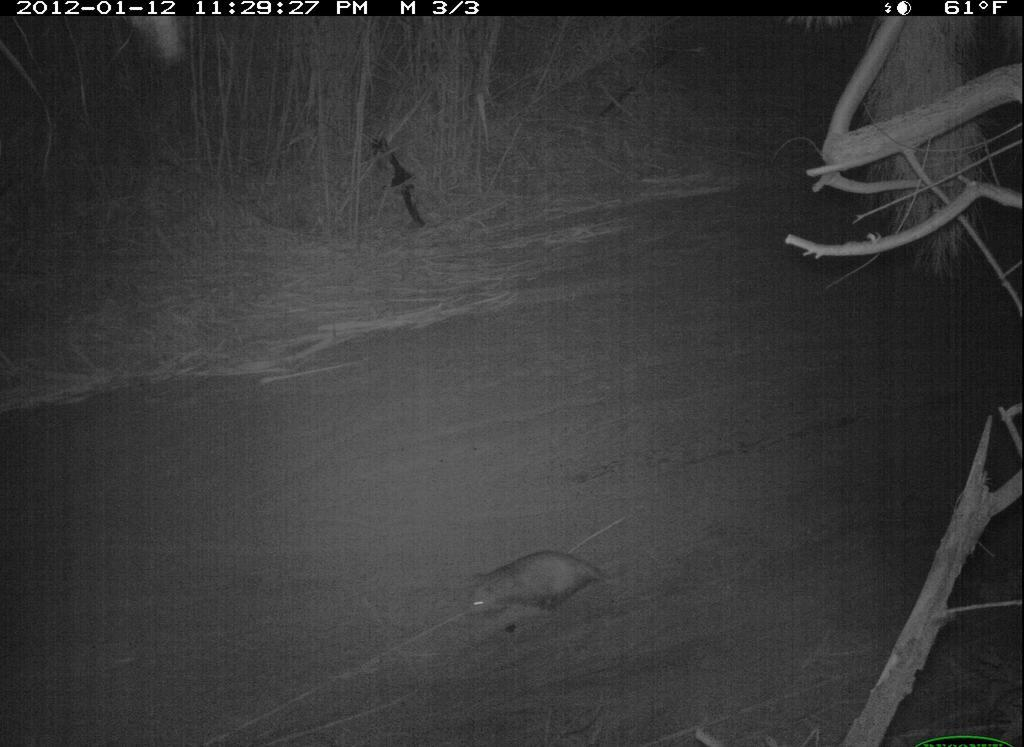opossum: (460, 534, 633, 628)
